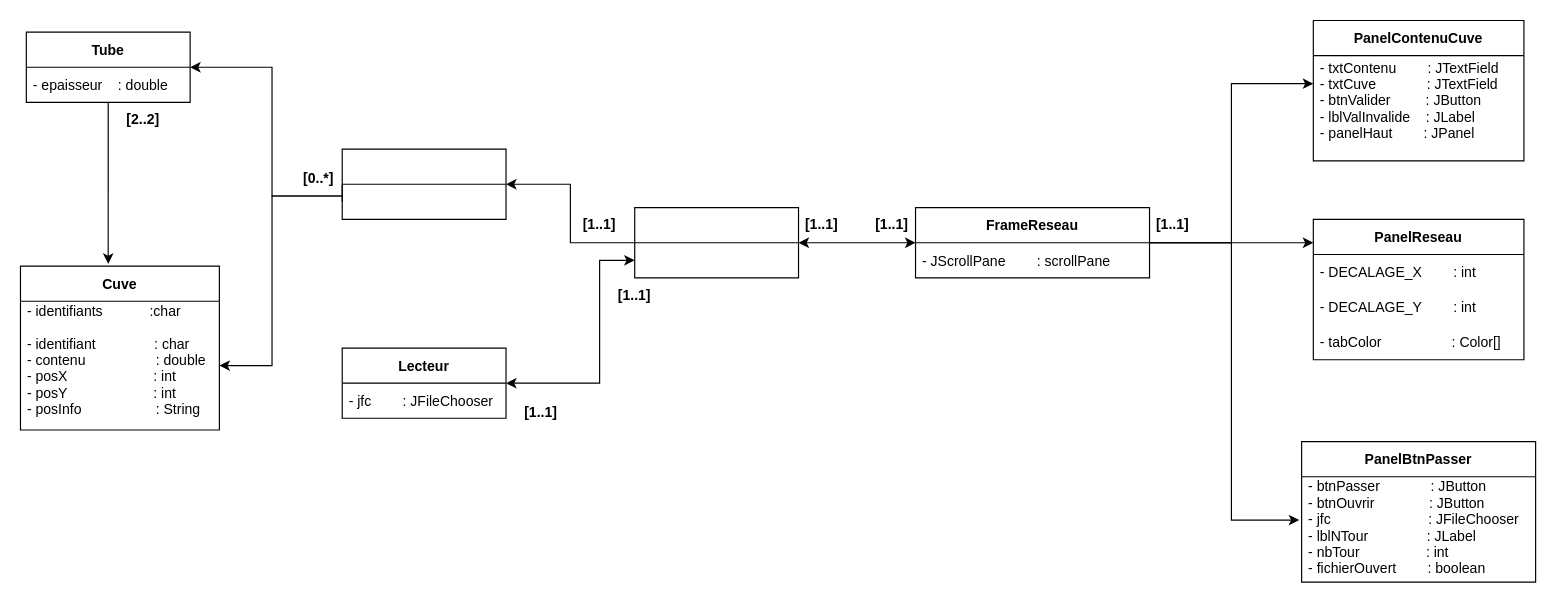
The diagram is 1556 pixels wide and 603 high, and some of its shapes have lost their labels. Here are the shapes that lost their labels. From the top down, the centre of each, then its label:
At point (423, 183): "Reseau".
At point (716, 242): "Controleur".
